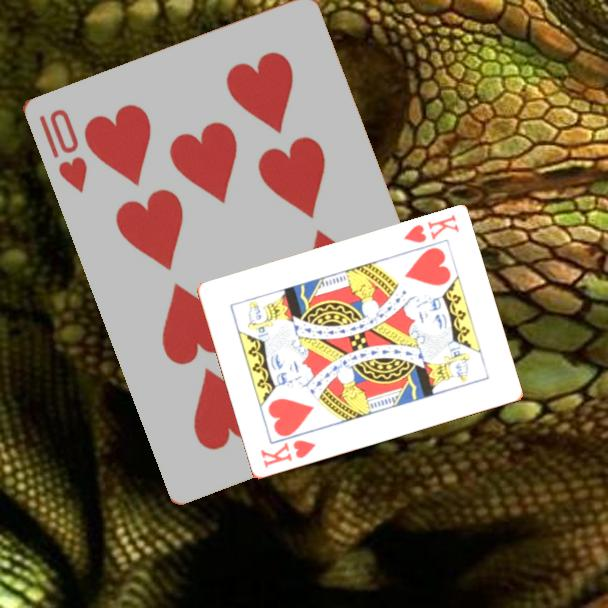h10: (35, 105, 90, 196)
h13: (257, 437, 319, 471), (400, 212, 462, 246)
